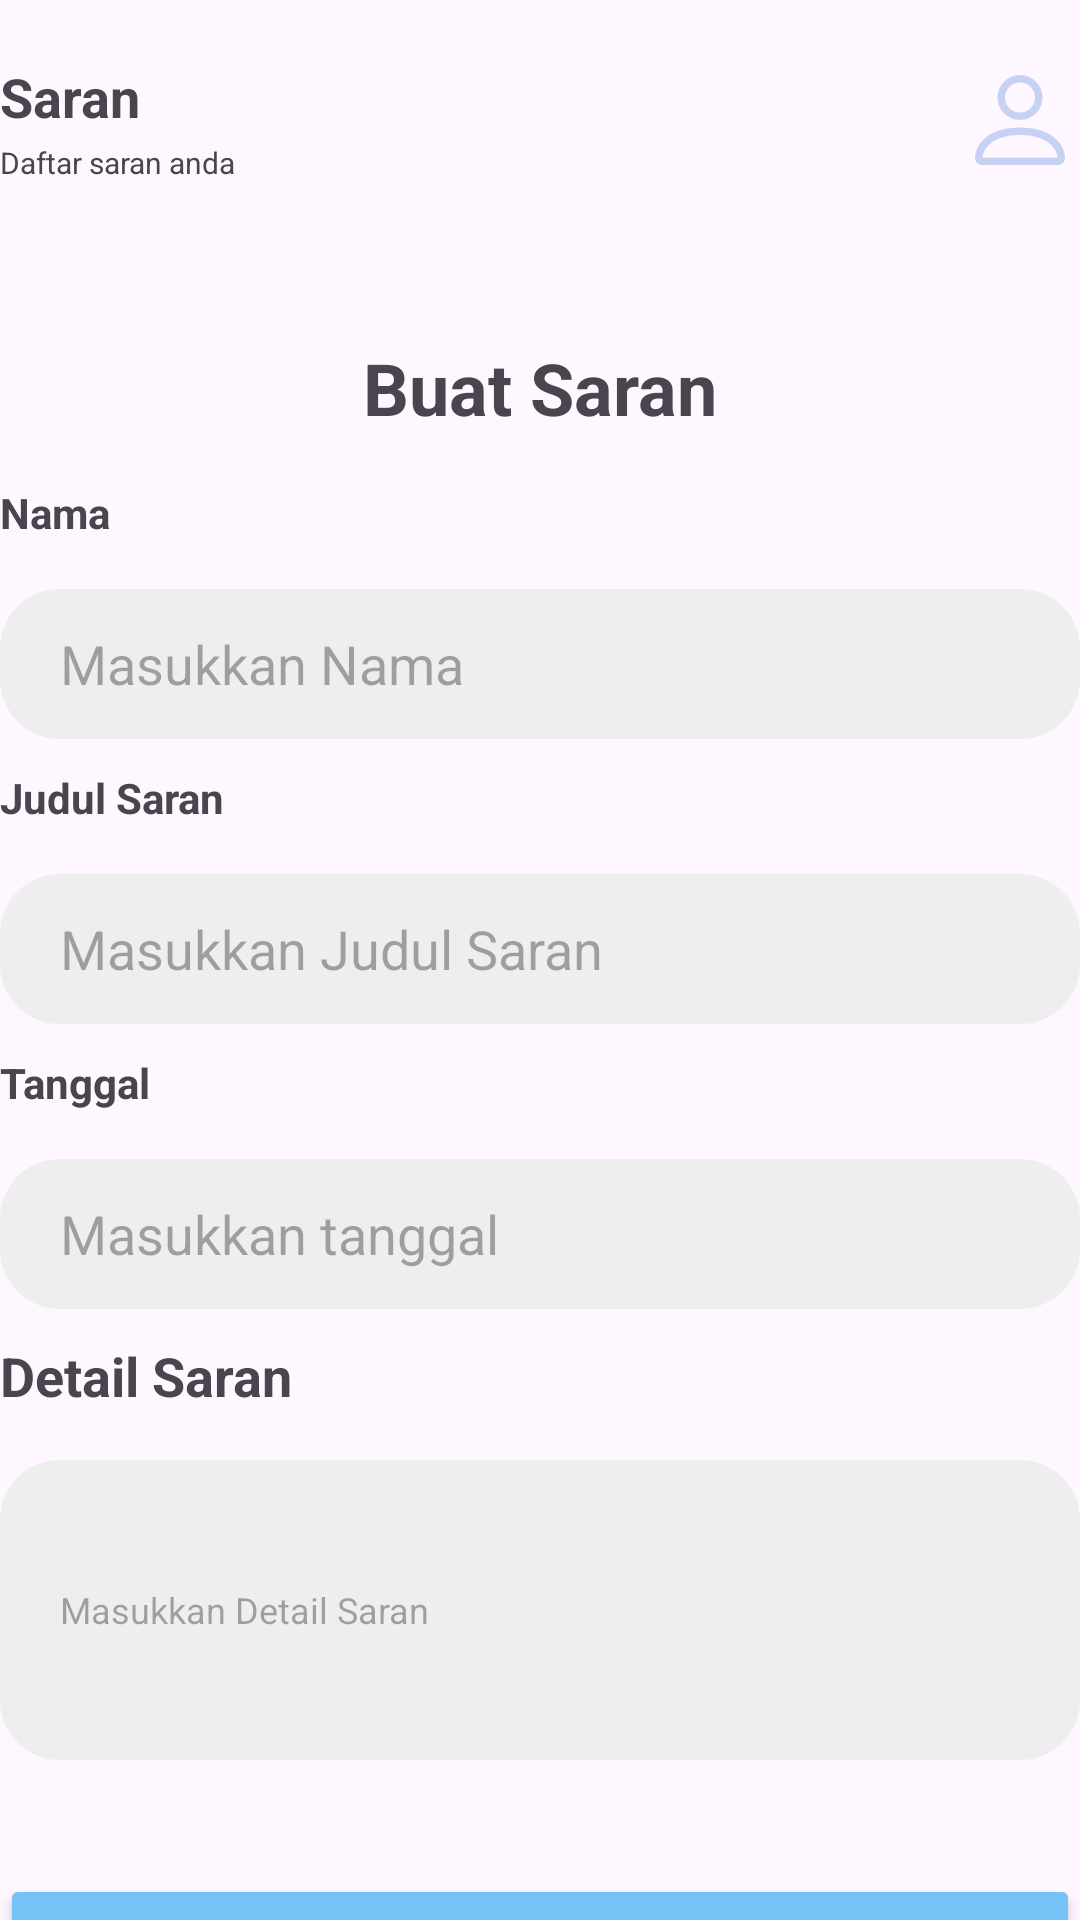

Icon bounding boxes for this 1080px×1920px phone screenshot, format [x1=x1, y1=y1, x2=x2, y2=y2]:
person: [x1=975, y1=75, x2=1065, y2=165]
